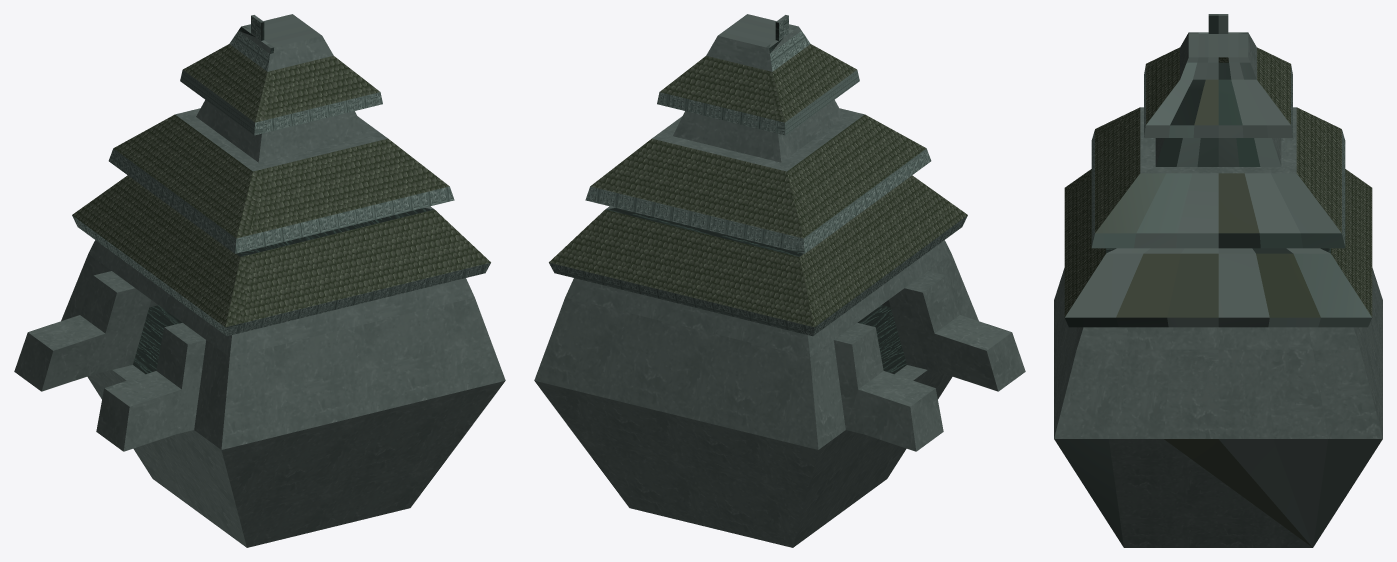
File: castle.fbx
3 views of the same model, side by side, from view 1: azimuth 30°, elevation 25°; view 2: azimuth 150°, elevation 25°; view 3: azimuth 270°, elevation 25° (orthographic).
Visible parts, largest first — view 1: Plane; view 2: Plane; view 3: Plane.
Boxes of the visible parts, left/top/right/bottom form: Plane: left=14, top=14, right=505, bottom=547; Plane: left=534, top=14, right=1025, bottom=547; Plane: left=1054, top=14, right=1382, bottom=547.
Size of the model in its own units: 2757 by 3568 by 2209.
Materials: 1 (1 with a texture image).
